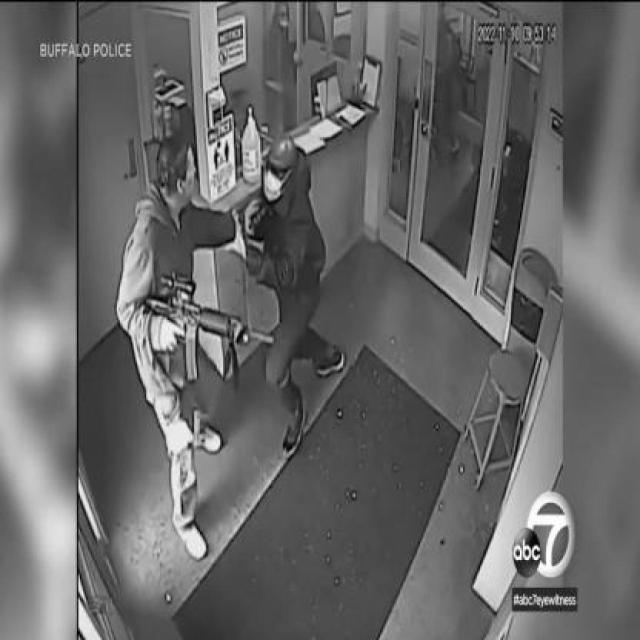weapon: (143, 268, 277, 386)
